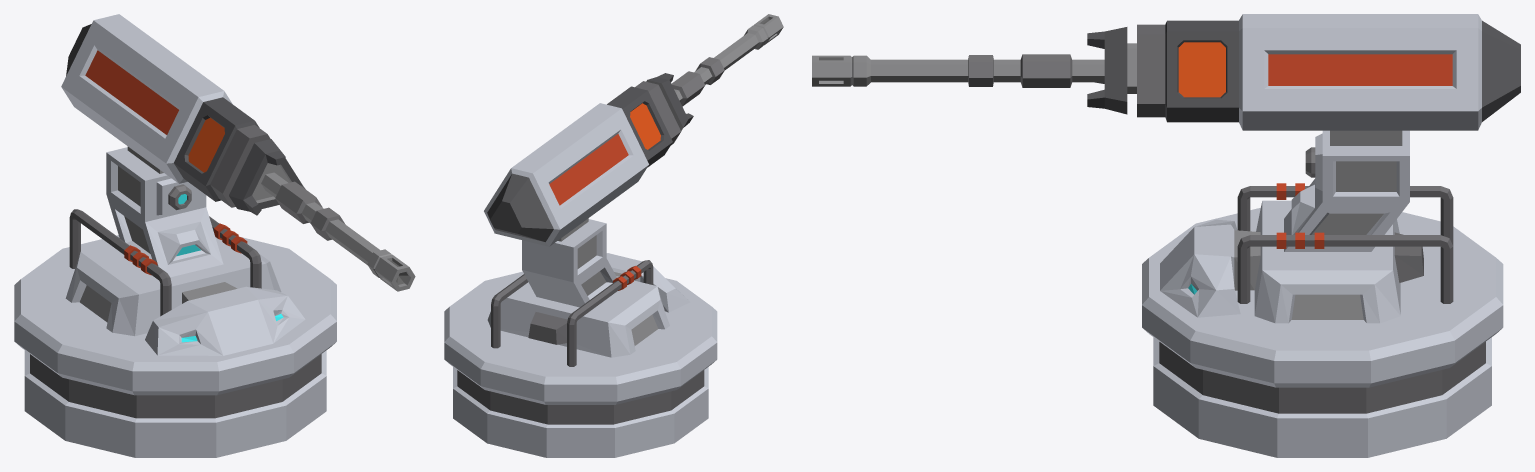
The model's file is sentry.obj.
3 views of the same model, side by side, from view 1: azimuth 30°, elevation 25°; view 2: azimuth 150°, elevation 25°; view 3: azimuth 270°, elevation 25° (orthographic). The views are drawn at different scales.
Visible parts, largest first — view 1: sentry.obj; view 2: sentry.obj; view 3: sentry.obj.
Part boxes in pixels (bbox=[...]): sentry.obj: bbox=[14, 14, 415, 457]; sentry.obj: bbox=[444, 14, 783, 457]; sentry.obj: bbox=[812, 14, 1520, 457].
Size of the model in its own units: 1.25 by 1.4 by 2.46.
